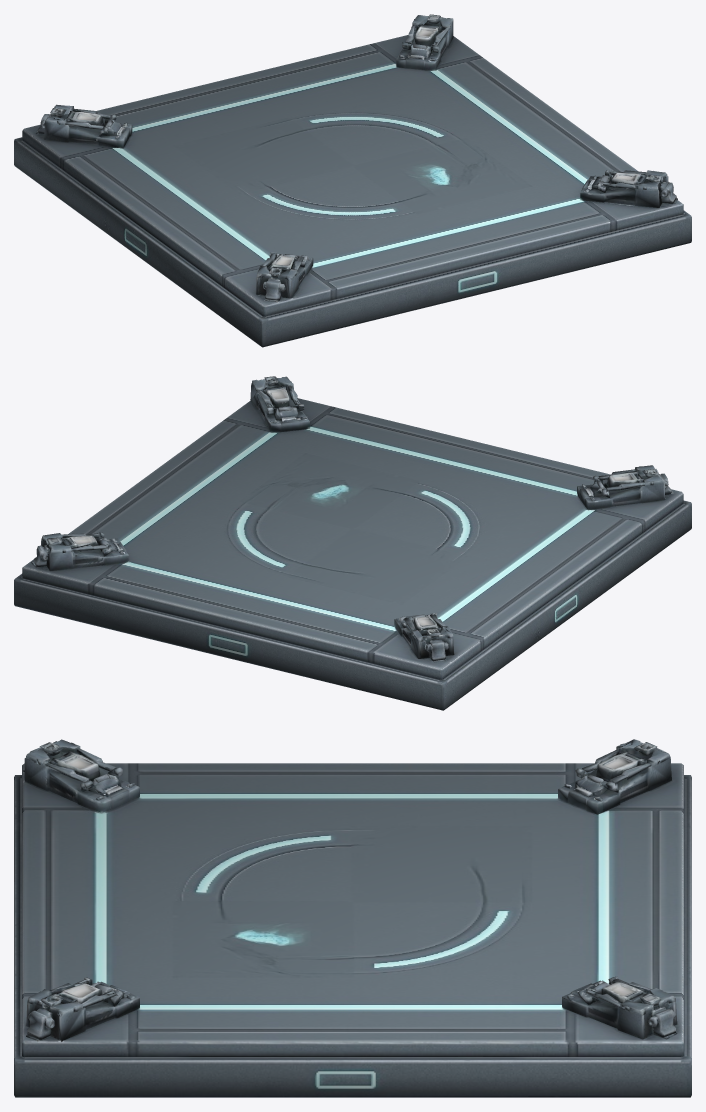
File: tripo_convert_3dc69d63-1516-4ba3-92a0-33136b574c19.fbx
The picture shows the model from 3 angles, top to bottom: view 1: azimuth 30°, elevation 25°; view 2: azimuth 150°, elevation 25°; view 3: azimuth 270°, elevation 25°; orthographic projection. The views are drawn at different scales.
Parts seen in each view (by area): view 1: tripo_node_3dc69d63; view 2: tripo_node_3dc69d63; view 3: tripo_node_3dc69d63.
Boxes of the visible parts, x1,y1,x2,y2 form: tripo_node_3dc69d63: (14, 14, 691, 347); tripo_node_3dc69d63: (14, 376, 691, 710); tripo_node_3dc69d63: (14, 739, 691, 1097).
Bounding box in the file's own units: 0.998 × 0.1348 × 0.998.
Materials: 1 (1 with a texture image).
